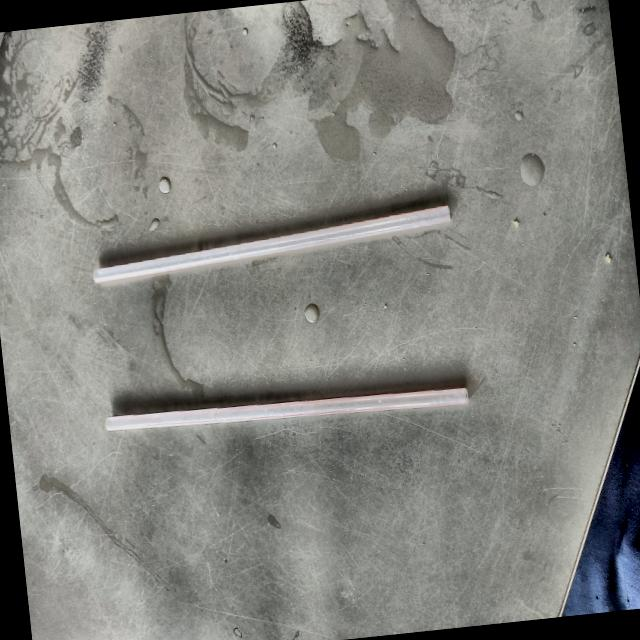plastic straw: (93, 206, 450, 283), (106, 387, 468, 431)
